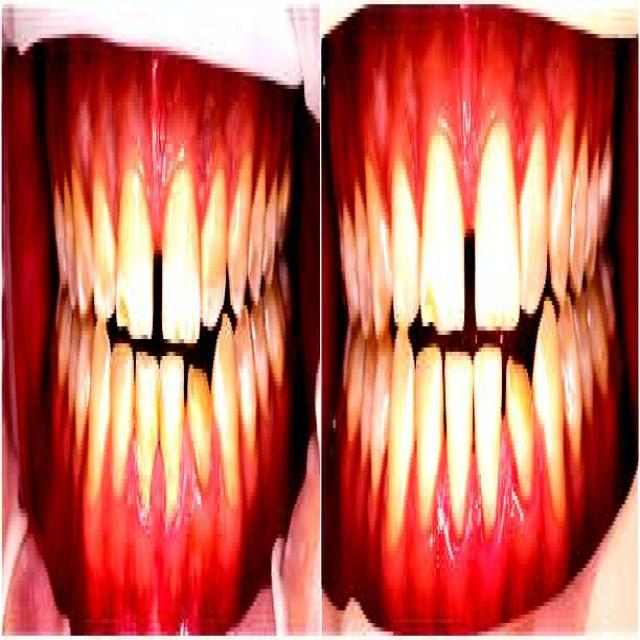caries: (113, 276, 131, 366), (421, 279, 441, 348)
